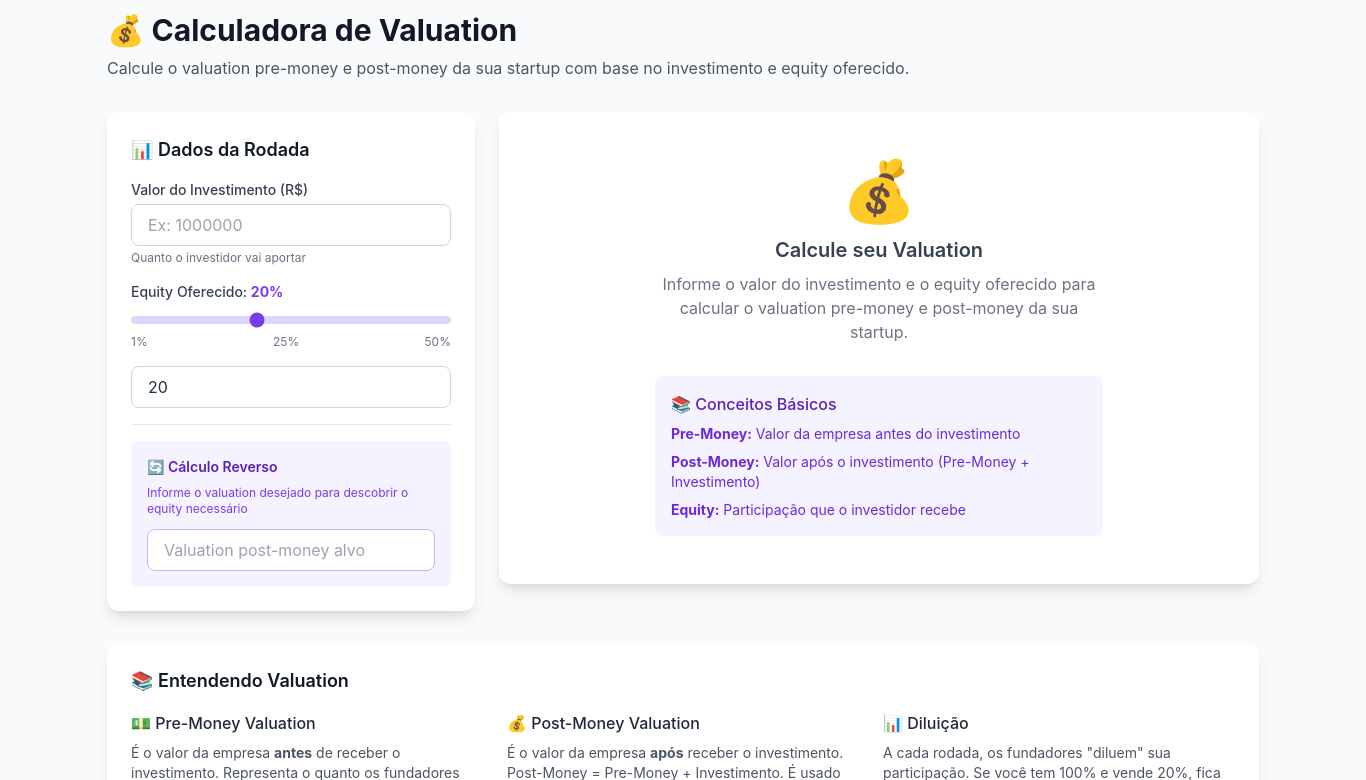
Test: CalculadoraValuation - Calculadora de Valuation › Cálculos de Valuation › deve exibir participação dos fundadores
Type "1000000" into the number field with placeholder "Ex: 1000000".
click(291, 225); type("1000000")  # box [131,204,451,246]
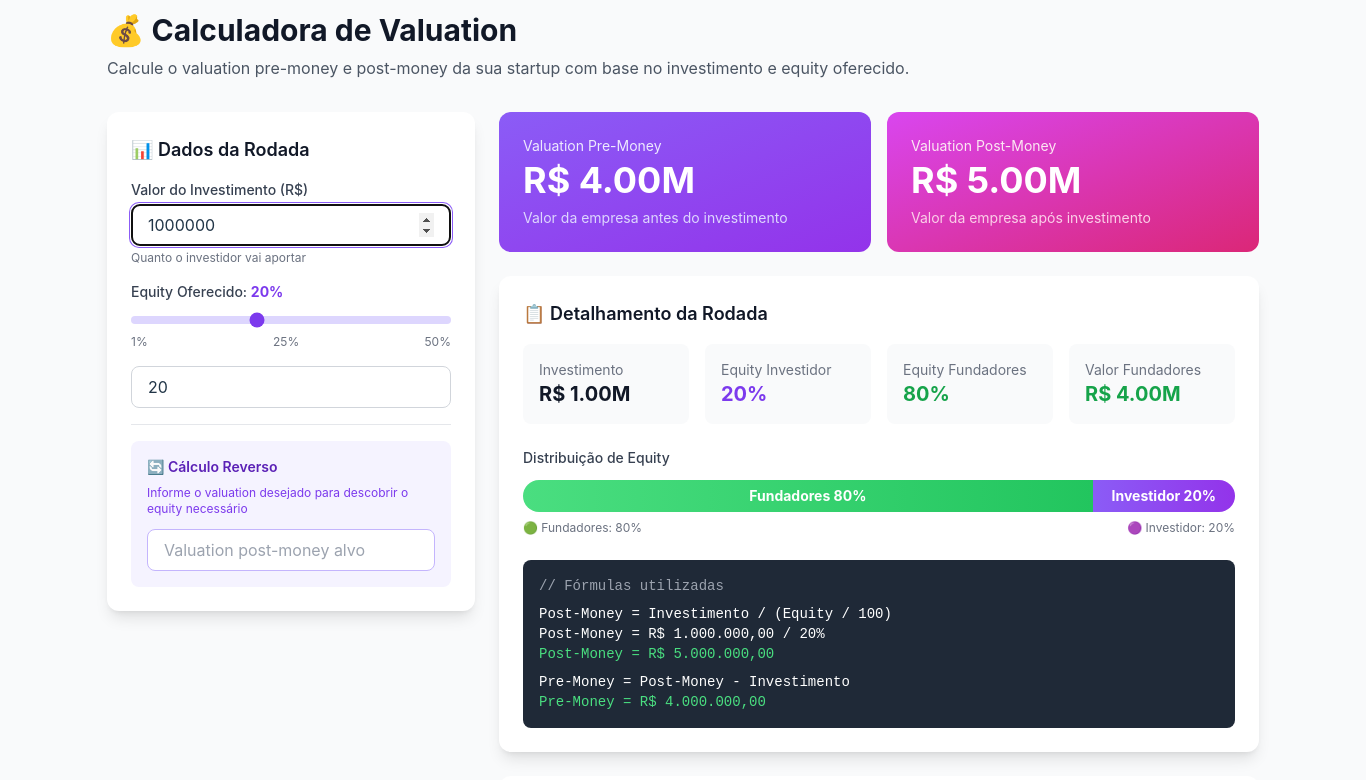
Expected: the text "🟢 Fundadores: 80%" is shown, [523,520,642,536]
